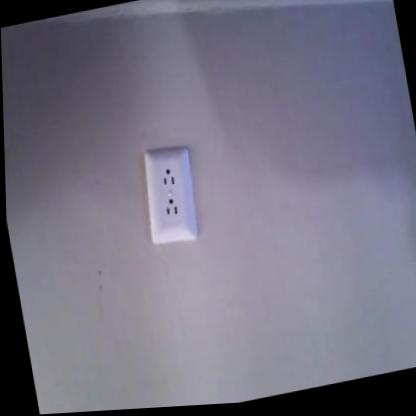OUTLET: (135, 144, 204, 248)
